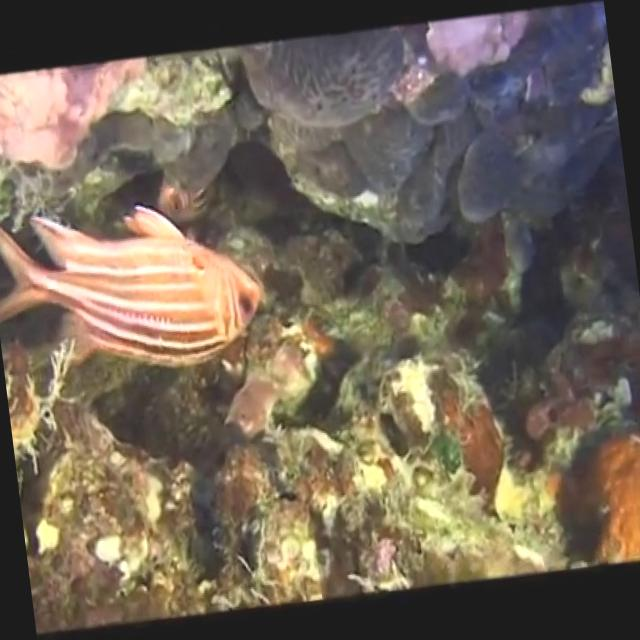Asker Baligi: (0, 183, 272, 392)
